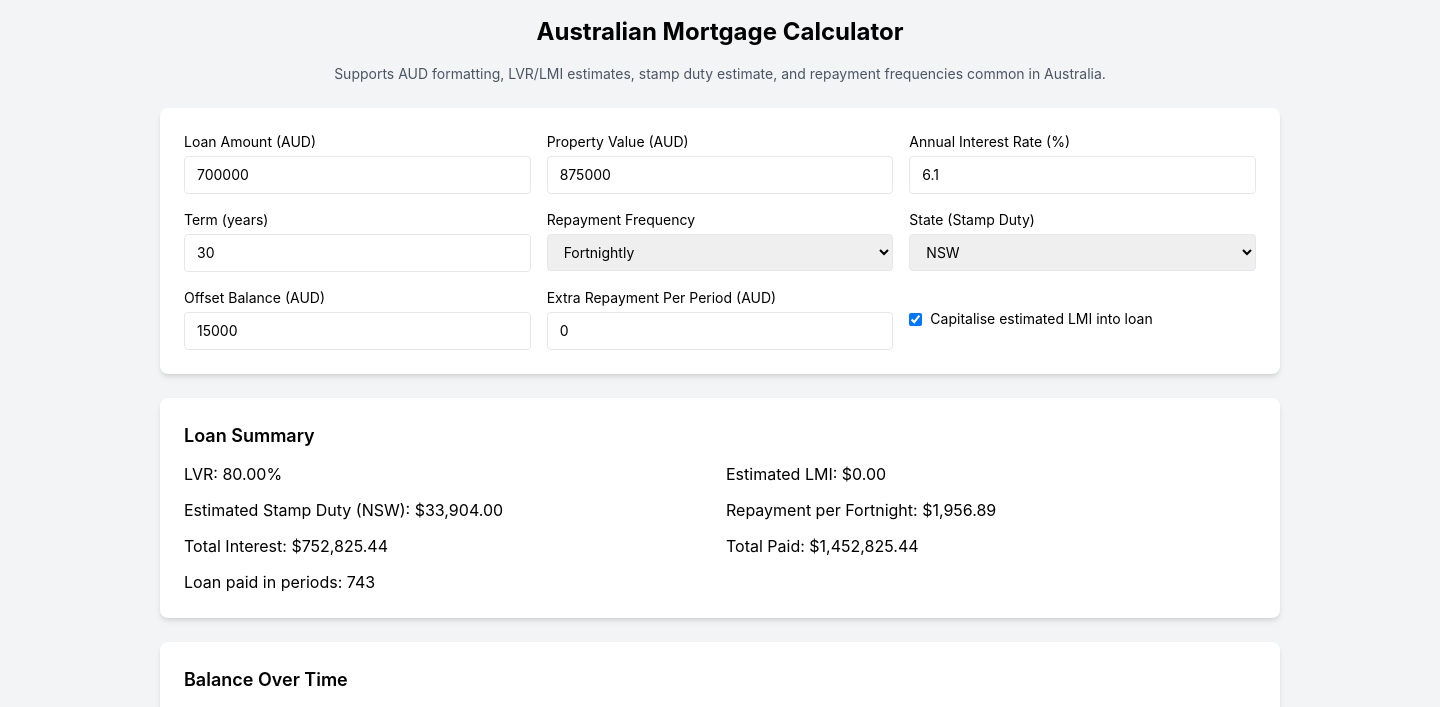
App — repayment frequency labels › switching to weekly shows "Week" label
Select "Weekly" in the dropdown labelled "Repayment Frequency". click: (720, 252)
box: [547,234,893,271]
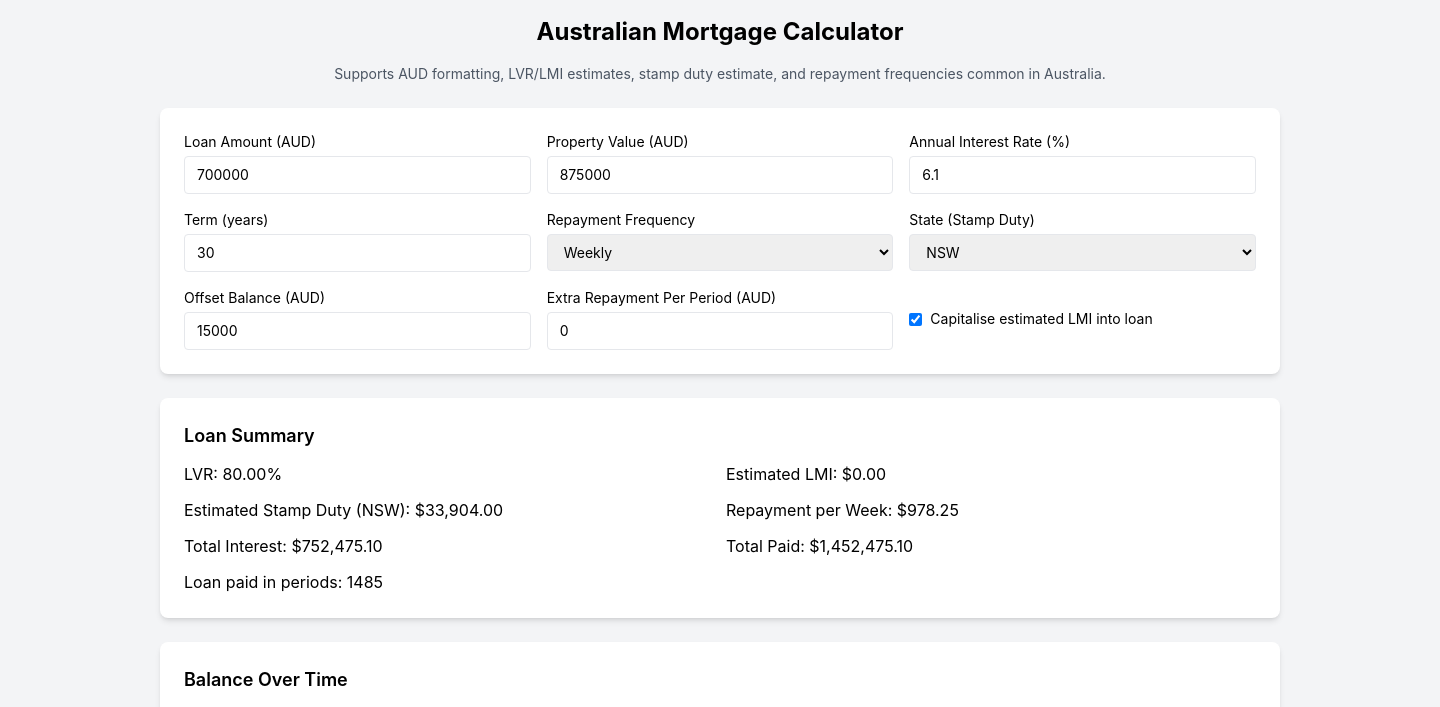
Expected: the text "Repayment per Week: $978.25" is shown, [726,500,959,520]
